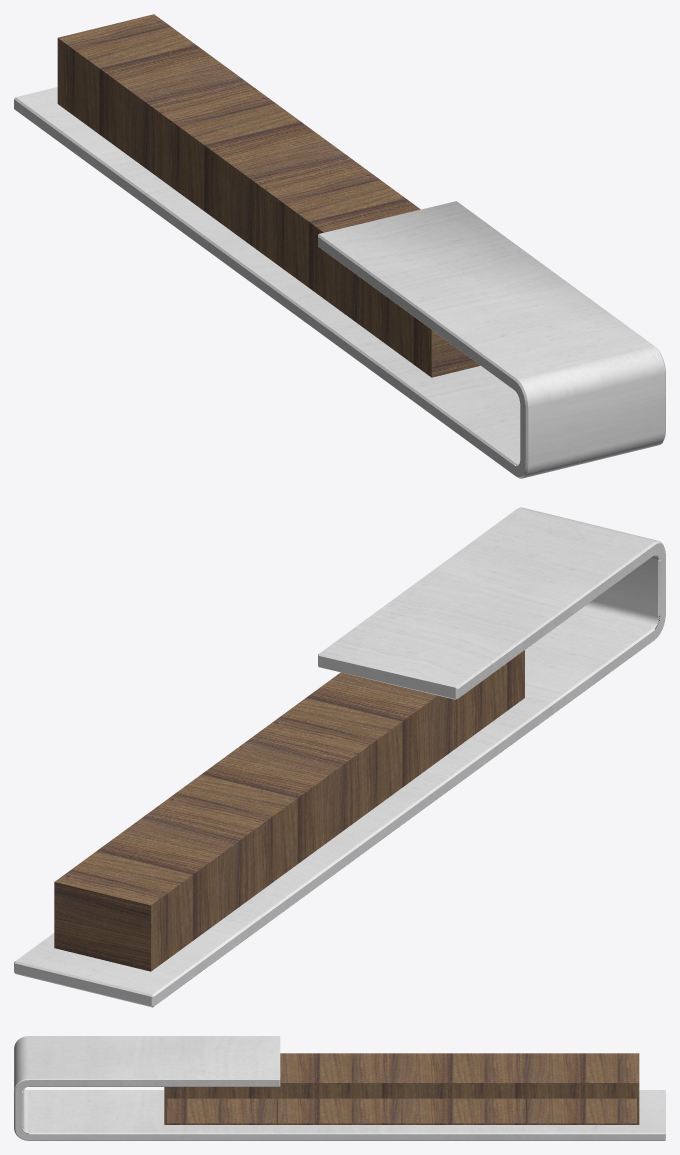
The model's file is tvStand.obj.
3 renders of one model, top to bottom at view 1: azimuth 30°, elevation 25°; view 2: azimuth 150°, elevation 25°; view 3: azimuth 270°, elevation 25°, orthographic. The views are drawn at different scales.
Visible parts, largest first — view 1: TV_stand:Box001 group; view 2: TV_stand:Box001 group; view 3: TV_stand:Box001 group.
Boxes of the visible parts, x1,y1,x2,y2 form: TV_stand:Box001 group: (14, 14, 665, 478); TV_stand:Box001 group: (14, 507, 665, 1007); TV_stand:Box001 group: (14, 1036, 665, 1140).
Bounding box in the file's own units: 0.749 × 0.5008 × 4.75.
2 materials, 2 textured.
